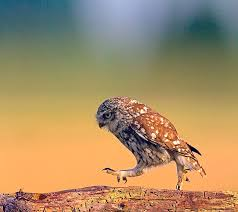Walking: (69, 75, 213, 197)
